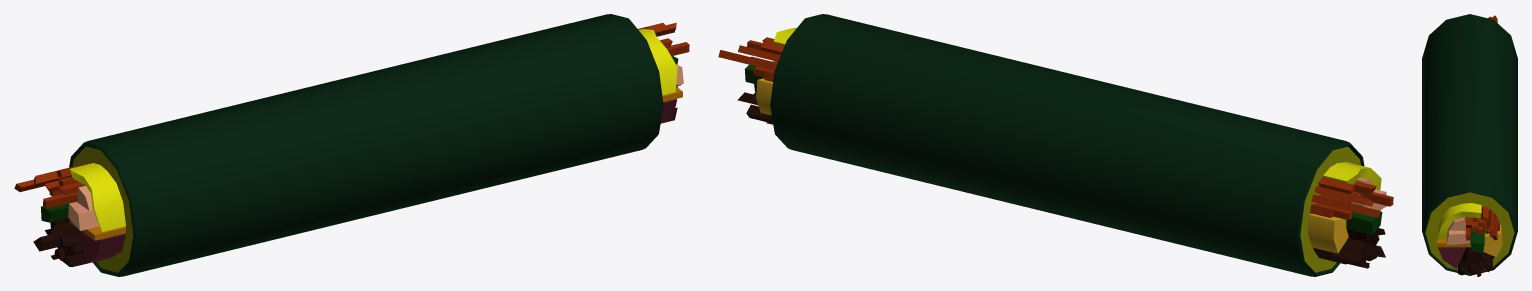
Rendered from Gimbap.fbx.
The picture shows the model from 3 angles, left to right: view 1: azimuth 30°, elevation 25°; view 2: azimuth 150°, elevation 25°; view 3: azimuth 270°, elevation 25°; orthographic projection. The views are drawn at different scales.
Parts seen in each view (by area): view 1: Gimbap; view 2: Gimbap; view 3: Gimbap.
Part boxes in pixels (x1,y1,x2,y2): Gimbap: (14, 14, 689, 276); Gimbap: (718, 14, 1393, 276); Gimbap: (1422, 14, 1517, 276).
Size of the model in its own units: 57.59 by 10.58 by 10.58.
